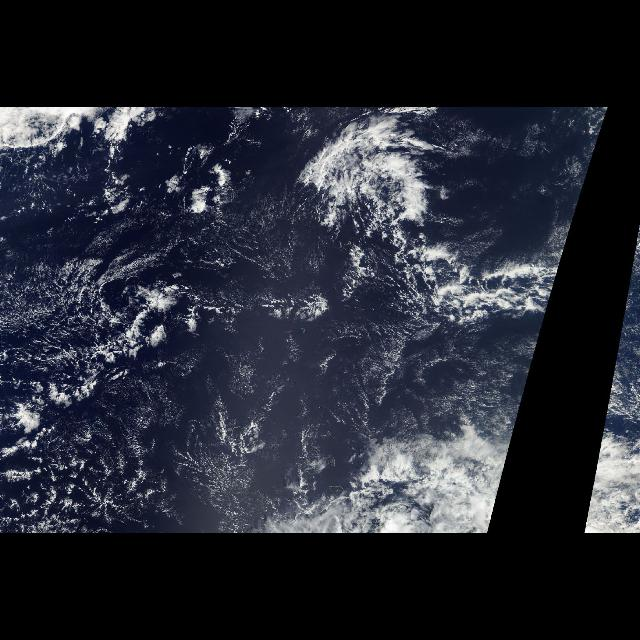Fish: (403, 253, 562, 331), (620, 285, 628, 331)
Gravel: (8, 200, 334, 312)
Sugar: (182, 326, 398, 450)
